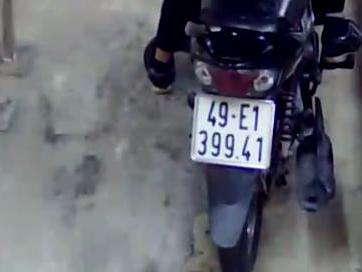num_plate: (190, 92, 275, 172)
